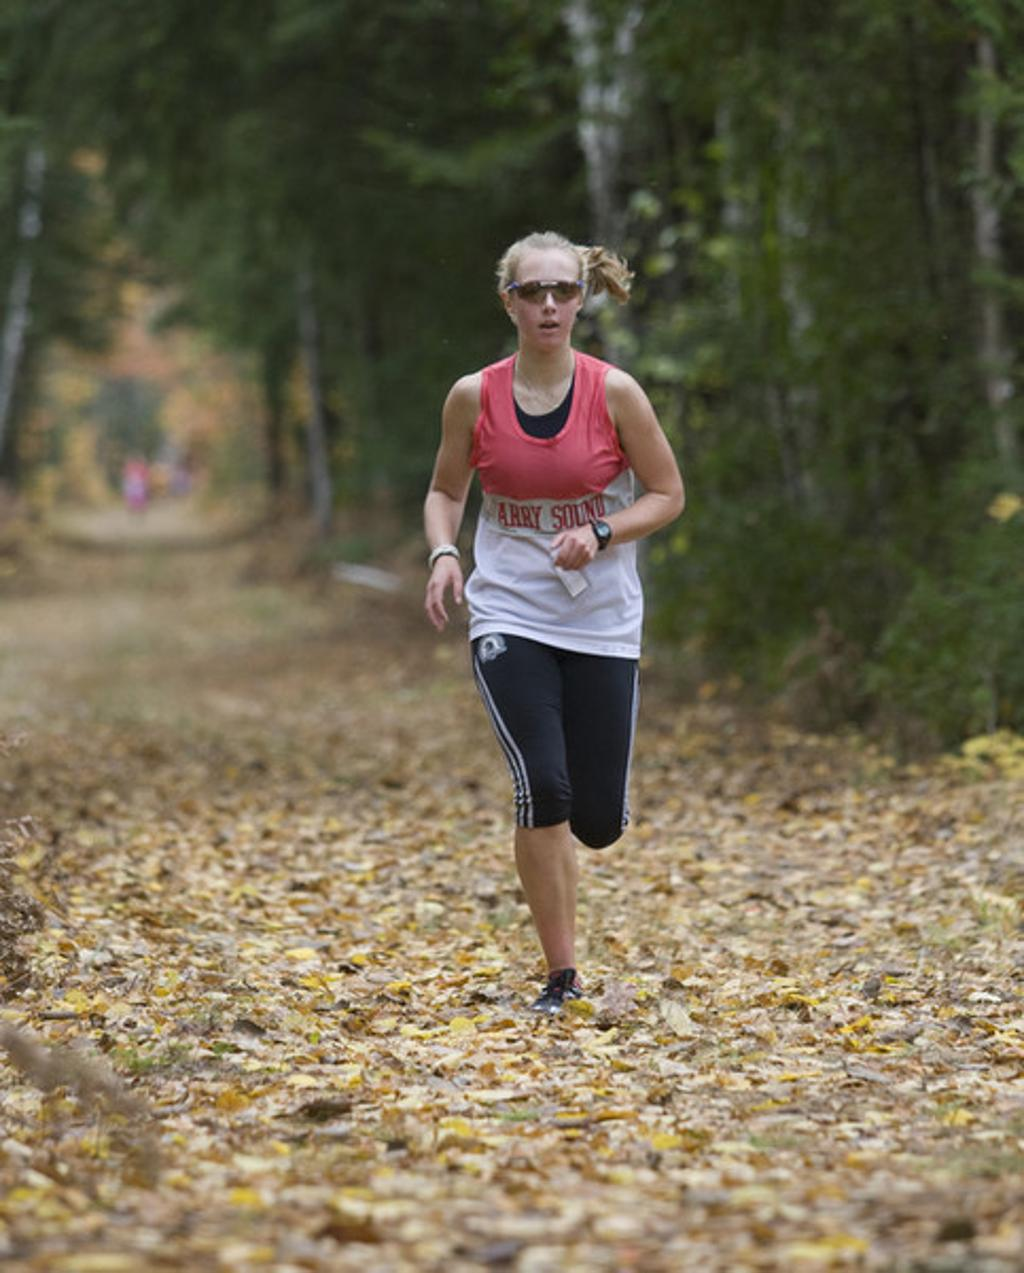face: (511, 250, 581, 357)
